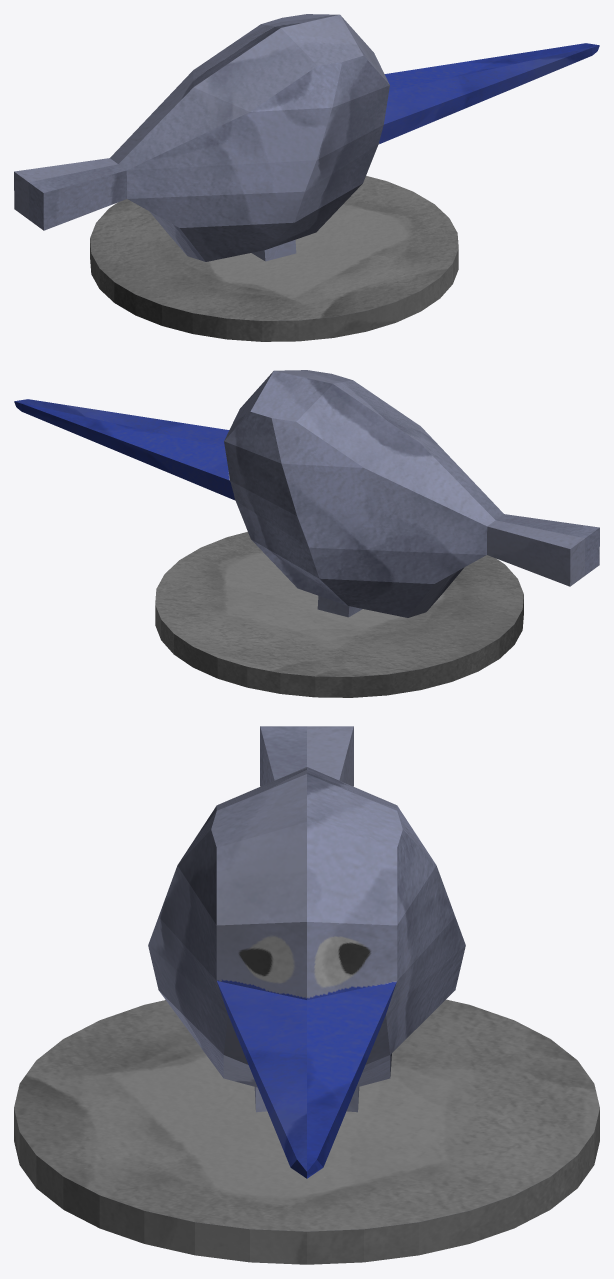
The model's file is Estatua_pajaro2.glb.
3 renders of one model, top to bottom at view 1: azimuth 30°, elevation 25°; view 2: azimuth 150°, elevation 25°; view 3: azimuth 270°, elevation 25°, orthographic. The views are drawn at different scales.
Parts seen in each view (by area): view 1: F_estatua_pajaro2; view 2: F_estatua_pajaro2; view 3: F_estatua_pajaro2.
Boxes of the visible parts, box(x1,y1,x2,y2) form: F_estatua_pajaro2: box(14, 14, 599, 341); F_estatua_pajaro2: box(14, 370, 599, 697); F_estatua_pajaro2: box(14, 726, 599, 1264).
Bounding box in the file's own units: 4.39 × 1.72 × 2.46.
1 material, 1 textured.
